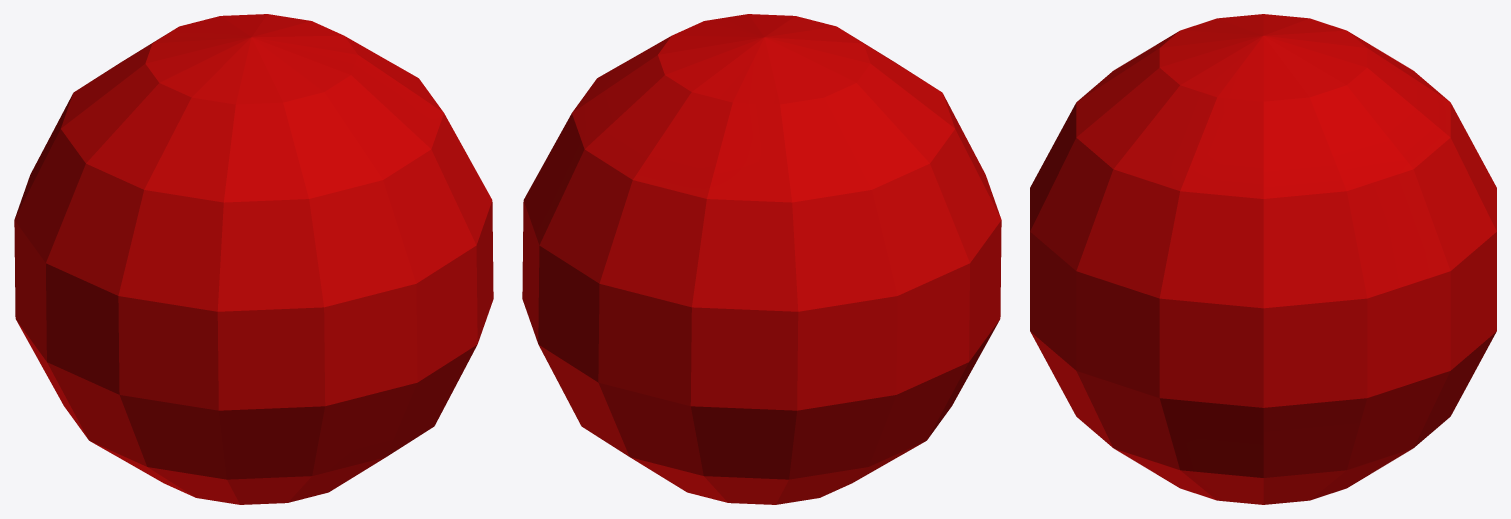
Rendered from CLOWN NOSE.fbx.
3 renders of one model, left to right at view 1: azimuth 30°, elevation 25°; view 2: azimuth 150°, elevation 25°; view 3: azimuth 270°, elevation 25°, orthographic.
Parts seen in each view (by area): view 1: CLOWN_NOSE; view 2: CLOWN_NOSE; view 3: CLOWN_NOSE.
Boxes of the visible parts, x1,y1,x2,y2 form: CLOWN_NOSE: (14,14,493,504); CLOWN_NOSE: (522,14,1001,504); CLOWN_NOSE: (1030,14,1496,504).
Bounding box in the file's own units: 5.06 × 5.17 × 4.92.
